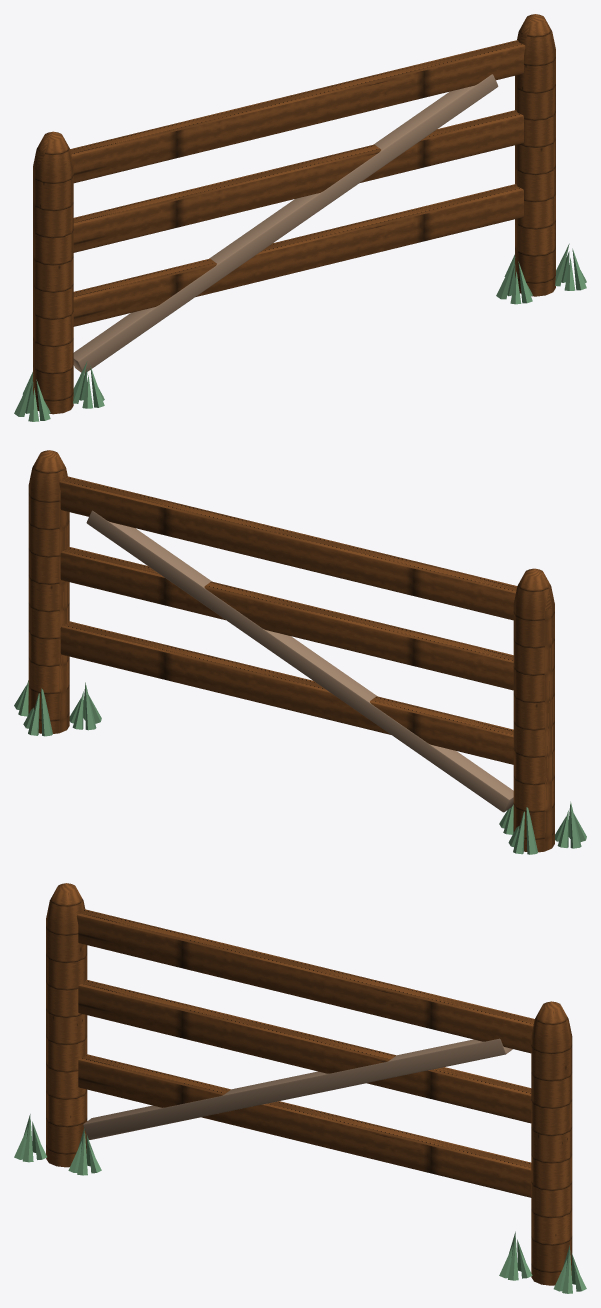
Rendered from th38_weidezaun.glb.
The picture shows the model from 3 angles, top to bottom: view 1: azimuth 30°, elevation 25°; view 2: azimuth 150°, elevation 25°; view 3: azimuth 330°, elevation 25°; orthographic projection.
Visible parts, largest first — view 1: Cube.002, Cube.001, Cube, Pfosten, Cube.003, Pfosten.001; view 2: Cube.002, Cube.001, Cube, Pfosten, Cube.003, Pfosten.001; view 3: Cube.002, Cube.001, Cube, Pfosten.001, Pfosten, Cube.003.
Part boxes in pixels (bbox=[...]): Cube.002: bbox=[70, 40, 525, 183]; Cube.001: bbox=[73, 110, 523, 252]; Cube: bbox=[73, 184, 523, 326]; Pfosten: bbox=[33, 131, 73, 414]; Cube.003: bbox=[73, 74, 498, 373]; Pfosten.001: bbox=[515, 14, 555, 296]; Cube.002: bbox=[59, 476, 517, 620]; Cube.001: bbox=[60, 547, 513, 690]; Cube: bbox=[60, 621, 513, 764]; Pfosten: bbox=[513, 568, 554, 852]; Cube.003: bbox=[86, 510, 513, 812]; Pfosten.001: bbox=[28, 450, 69, 733]; Cube.002: bbox=[76, 909, 534, 1053]; Cube.001: bbox=[78, 979, 531, 1123]; Cube: bbox=[78, 1054, 531, 1197]; Pfosten.001: bbox=[531, 1001, 572, 1285]; Pfosten: bbox=[46, 883, 87, 1167]; Cube.003: bbox=[83, 1038, 512, 1139].
Size of the model in its own units: 2.73 by 1.26 by 0.3047.
3 materials, 1 textured.
